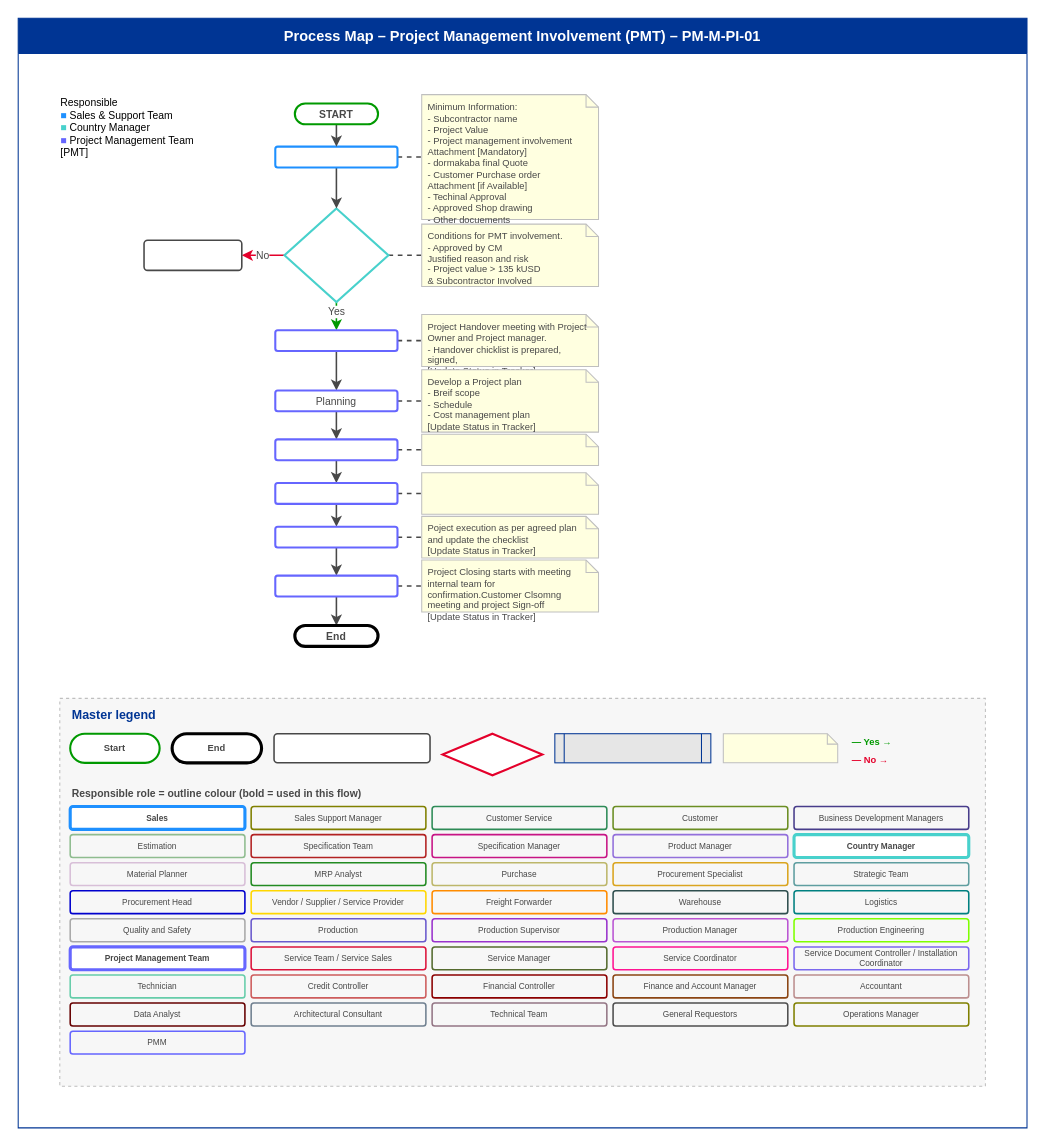
Image size: 1045x1146. Some labels were removed from this diagram. Here are the shapes that lost their labels. From the top down, the centre of each, then its label:
At (336,156): "Update Project Tracker".
At (192,255): "Notify Requestor [Update Tracker]".
At (336,255): "Project Management Involved".
At (336,340): "Handover Meetings".
At (336,449): "Internal Kick-off".
At (510,449): "Project Kick-off meeting with internal team and update the Project plan".
At (336,493): "External Kick-off".
At (510,493): "Present plan to customer and build alignment. [Update Status in Tracker]".
At (336,536): "Execution".
At (336,585): "Closing".
At (351,747): "Activity (outline = role)".
At (492,754): "Decision".
At (632,748): "Linked process (Ref ID)".
At (780,748): "Note / checklist".
